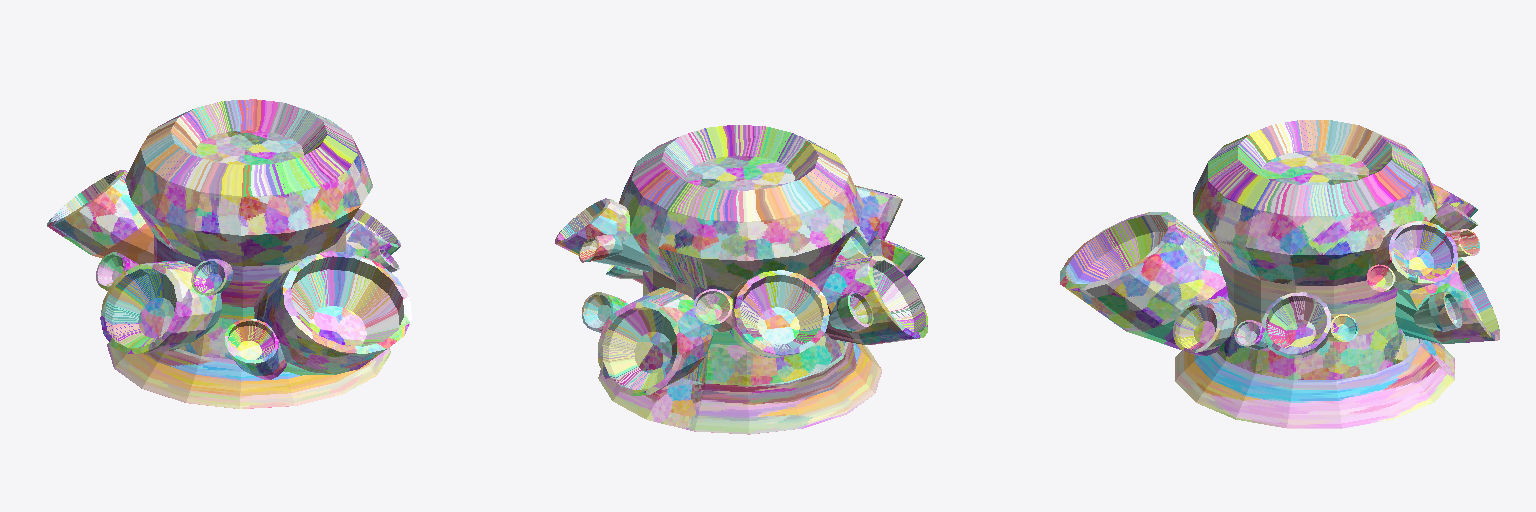
3 renders of one model, left to right at view 1: azimuth 30°, elevation 25°; view 2: azimuth 150°, elevation 25°; view 3: azimuth 270°, elevation 25°, orthographic.
Visible parts, largest first — view 1: 円柱; view 2: 円柱; view 3: 円柱.
Part boxes in pixels (left/top/right/bottom): 円柱: left=47, top=99, right=411, bottom=408; 円柱: left=555, top=125, right=927, bottom=434; 円柱: left=1060, top=120, right=1499, bottom=428.
Size of the model in its own units: 2.78 by 1.92 by 3.54.
1 materials, 1 textured.